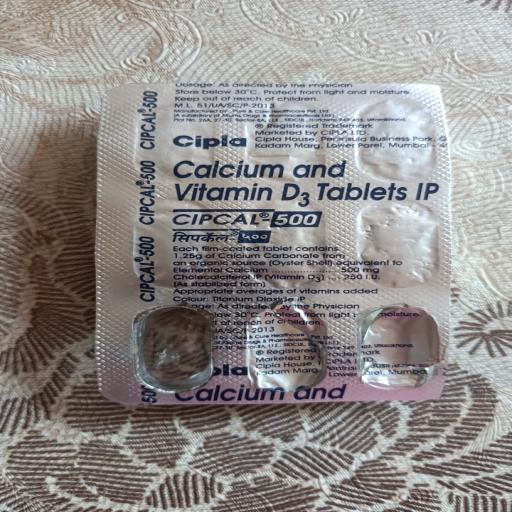cipcal-500: (98, 78, 483, 428)
